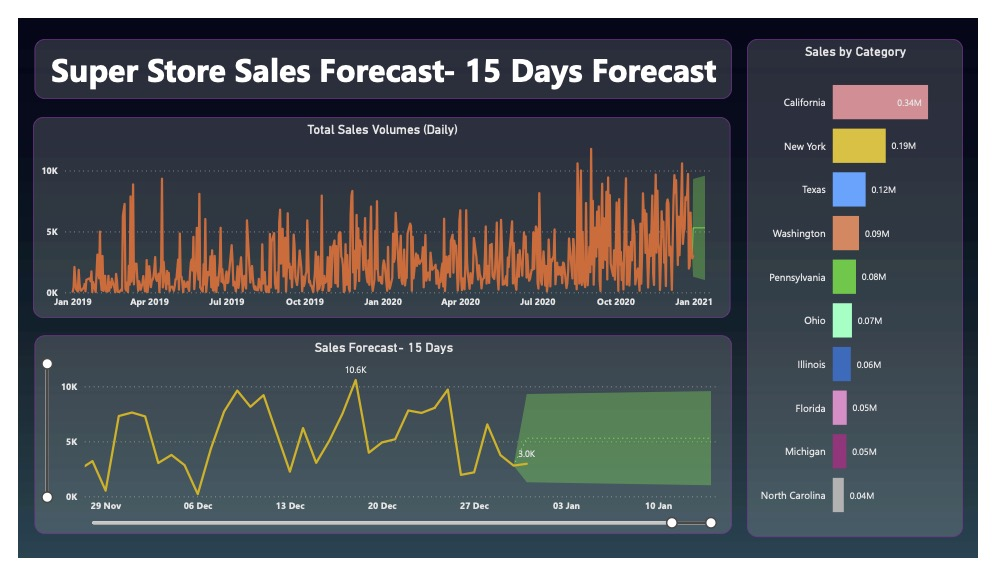

What the dashboard file says about the page in this screenshot:
{"tool":"powerbi","page":{"name":"Page 2","canvas":[1280,720],"ordinal":1},"visuals":[{"type":"lineChart","title":"Total Sales Volumes (Daily)","fields":{"Y":["Sum(Sheet1.Sales)"],"Category":["Sheet1.Order Date"]},"box":[20,131.7,930,268.3],"z":0},{"type":"lineChart","title":"Sales Forecast- 15 Days","fields":{"Y":["Sum(Sheet1.Sales)"],"Category":["Sheet1.Order Date"]},"box":[21.7,423.3,930,265],"z":1000},{"type":"clusteredBarChart","title":"Sales by Category","fields":{"Y":["Sum(Sheet1.Sales)"],"Category":["Sheet1.State"]},"box":[971.7,28.3,288.3,663.3],"z":2000},{"type":"textbox","box":[21.7,28.3,930,80],"z":3000}]}

Visuals, with their boxes in screenshot pixels (x1, y1, x2, y2), scaled from the page's 1280x720 canvas onto the 996x576 screenshot:
"Total Sales Volumes (Daily)" lineChart: detection(16, 105, 739, 320)
"Sales Forecast- 15 Days" lineChart: detection(17, 339, 741, 551)
"Sales by Category" clusteredBarChart: detection(756, 23, 980, 553)
textbox: detection(17, 23, 741, 87)
